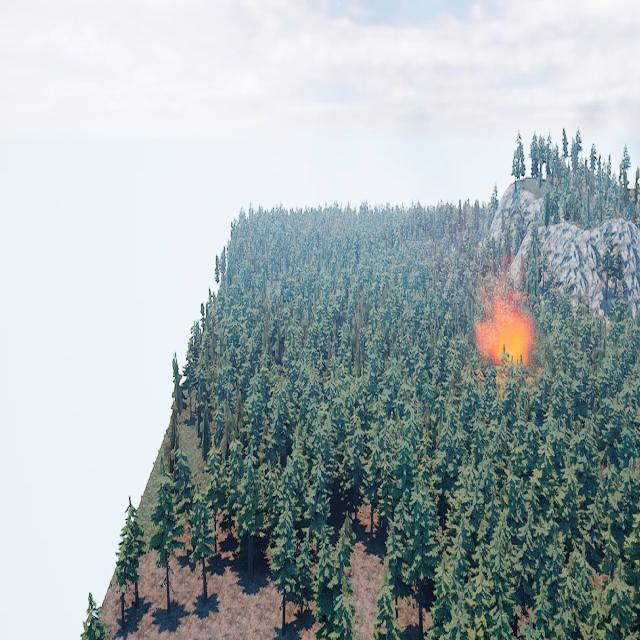fire: (496, 313, 532, 370)
smoke: (471, 227, 530, 356)
